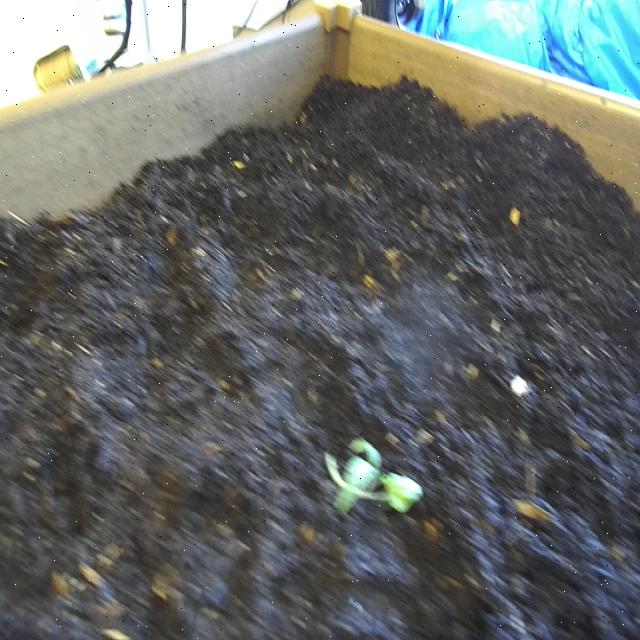Unhealthy: (320, 418, 426, 539)
